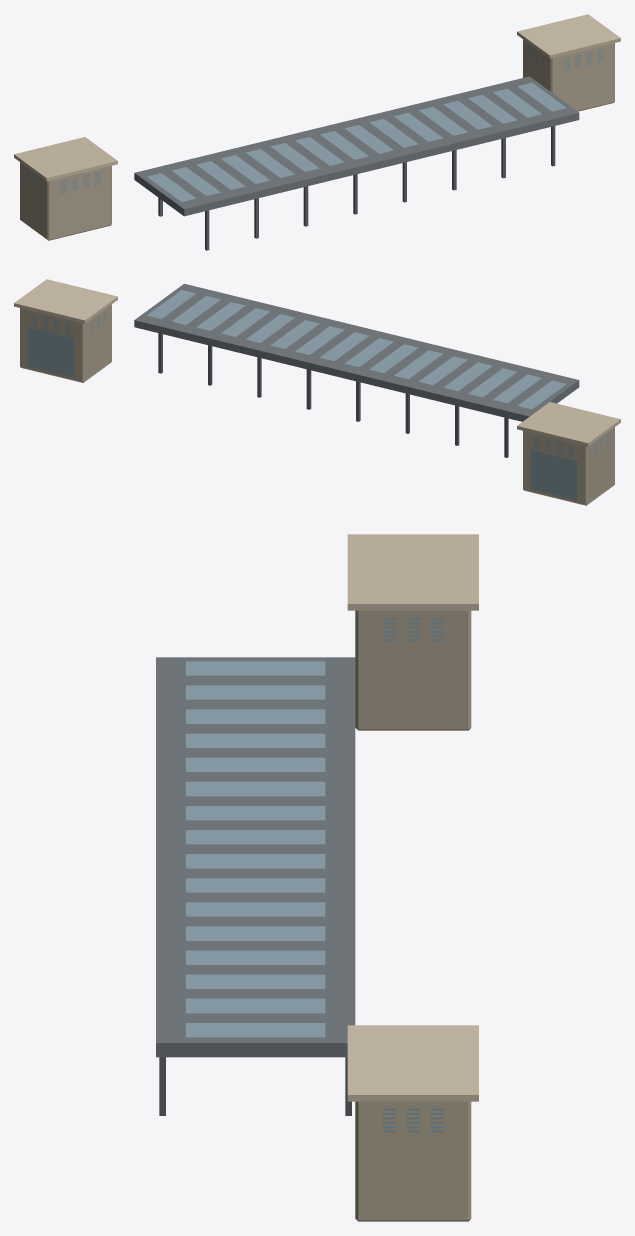
3 views of the same model, one above another, from view 1: azimuth 30°, elevation 25°; view 2: azimuth 150°, elevation 25°; view 3: azimuth 270°, elevation 25° (orthographic). The views are drawn at different scales.
Parts seen in each view (by area): view 1: penn-station-lod0; view 2: penn-station-lod0; view 3: penn-station-lod0.
Boxes of the visible parts, box(x1,y1,x2,y2) form: penn-station-lod0: box(14, 14, 620, 250); penn-station-lod0: box(14, 279, 620, 505); penn-station-lod0: box(156, 534, 478, 1221).
Bounding box in the file's own units: 176 × 19.18 × 42.79.
